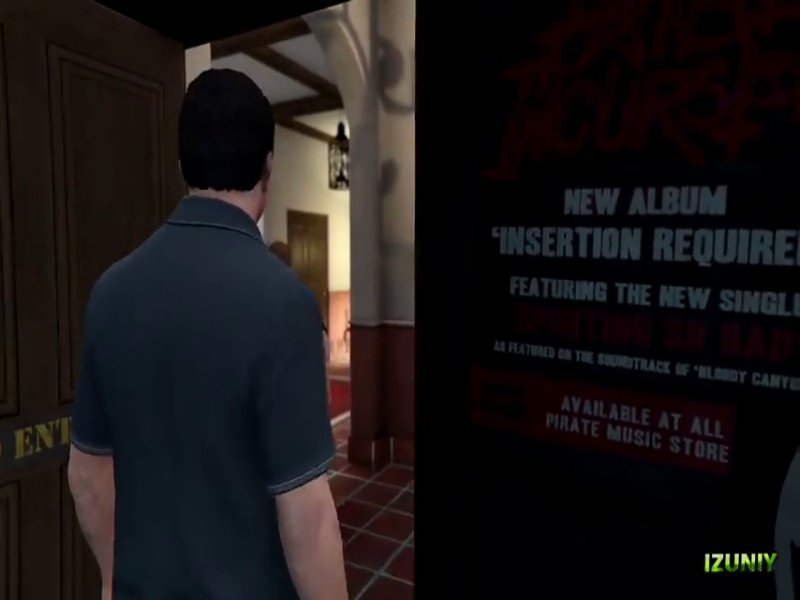human: (70, 59, 361, 599)
